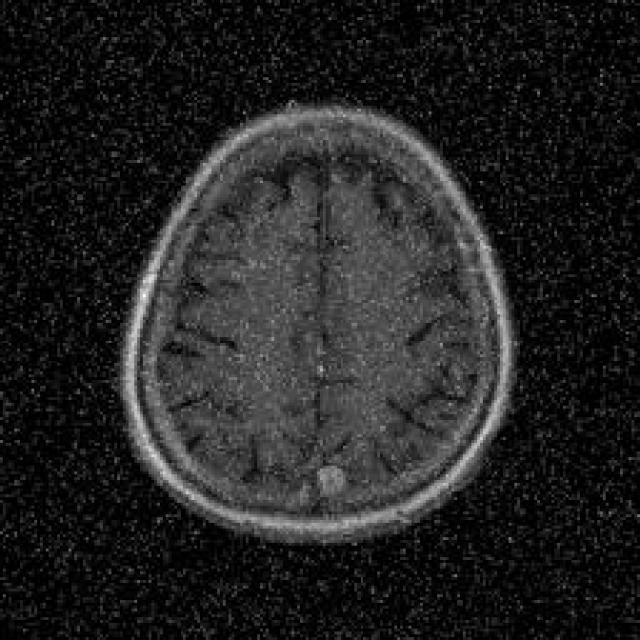meningioma_tumor: (309, 453, 362, 519)
